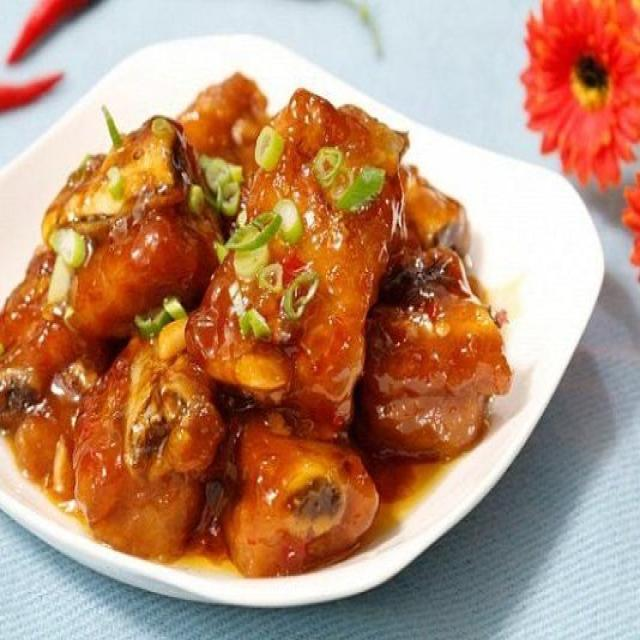suon xao: (0, 74, 509, 576)
